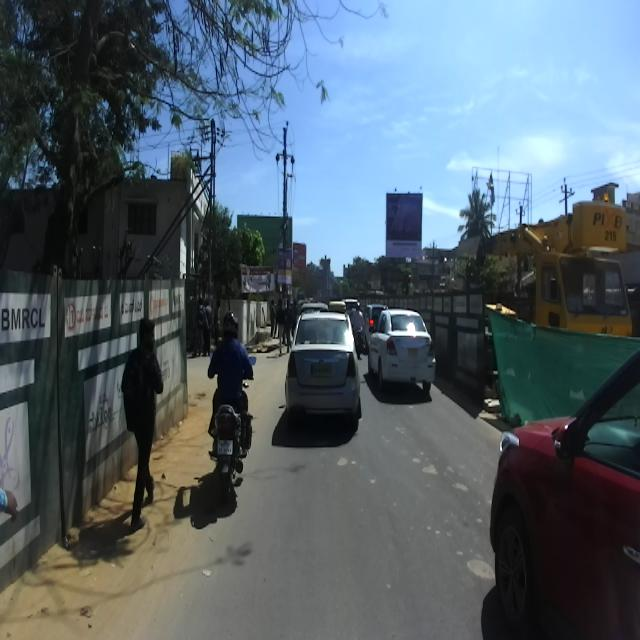car ahead at: (491, 342, 640, 629), (278, 294, 364, 441), (368, 306, 438, 398)
motorcycle ahead at: (202, 396, 258, 508)
person ahead at: (116, 304, 166, 534)
